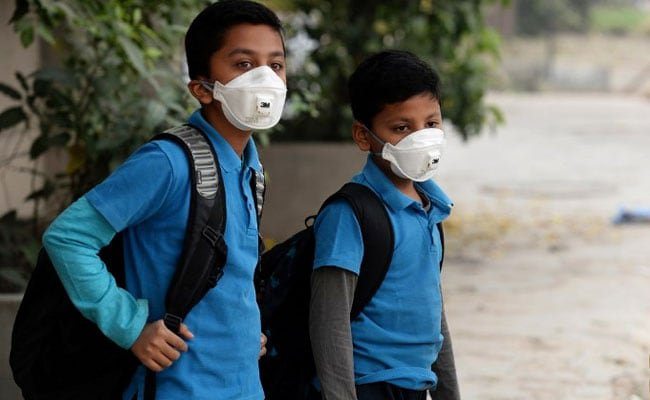mask: (334, 44, 468, 189), (177, 9, 303, 130)
